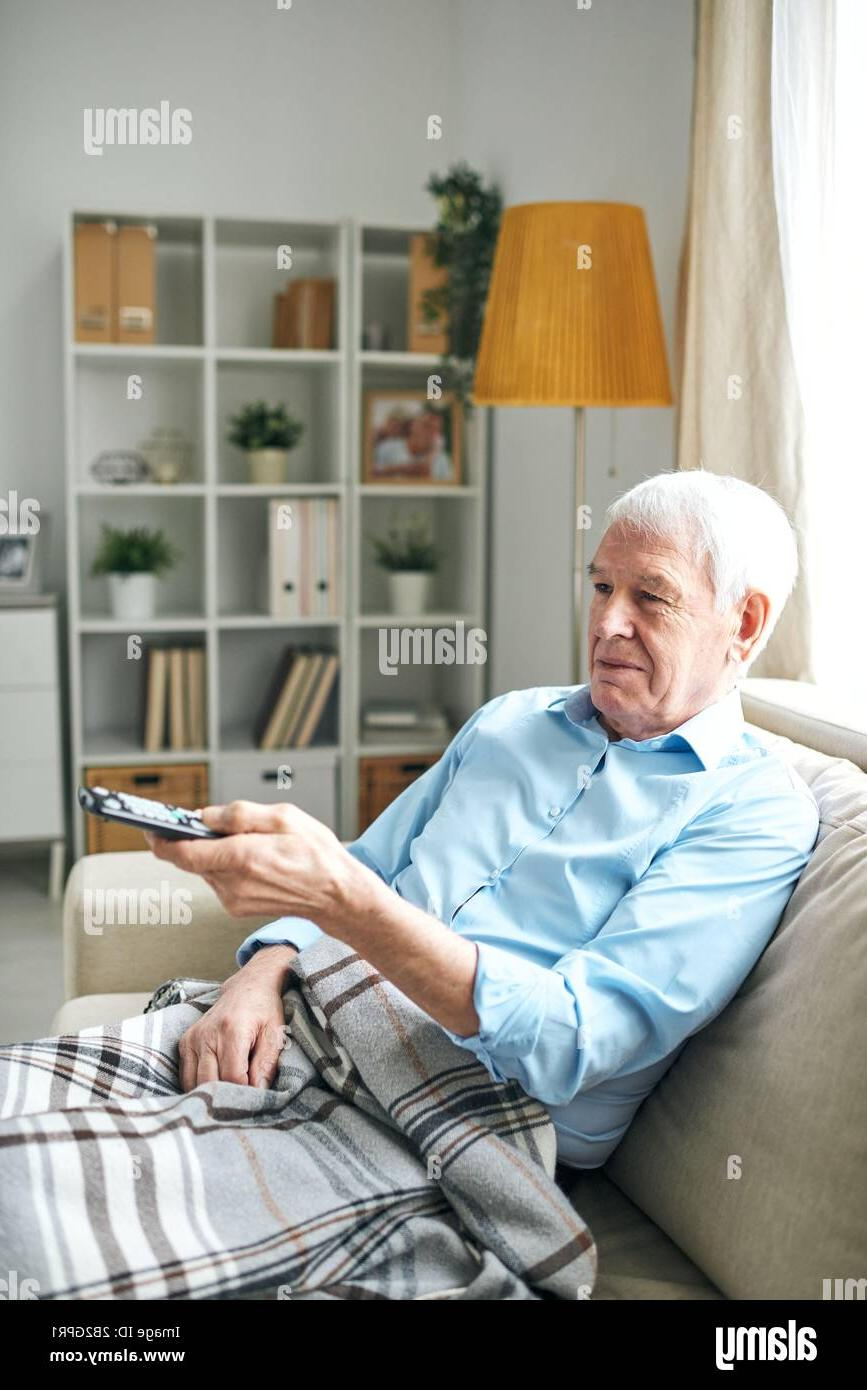blanket: (0, 915, 602, 1301)
long sleeve shirt: (235, 674, 822, 1182)
